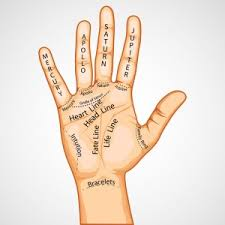palm: (66, 89, 139, 169)
